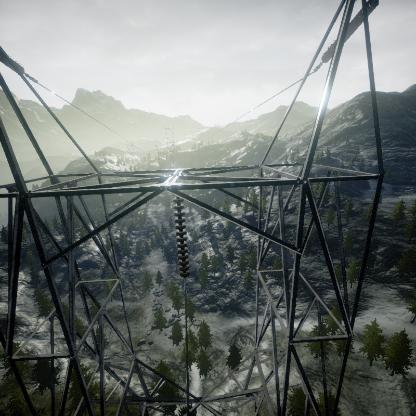insulator: (321, 0, 381, 66), (170, 195, 191, 282)
